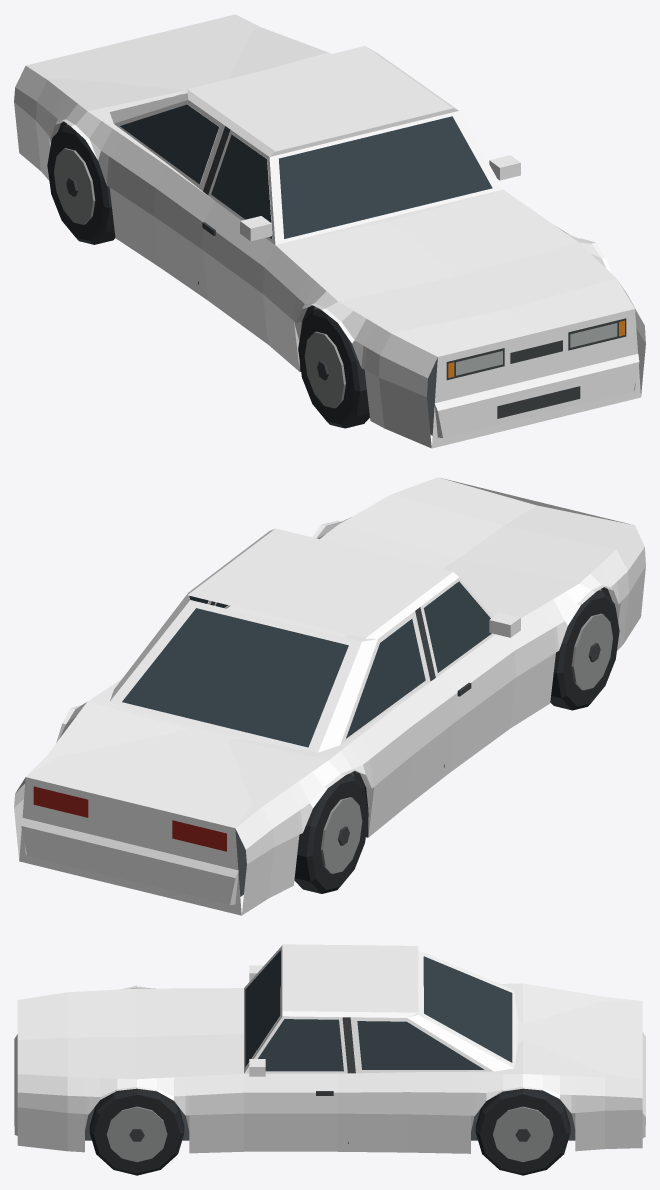
Rendered from bancroft_sidewinder_gts_69.glb.
3 renders of one model, top to bottom at view 1: azimuth 30°, elevation 25°; view 2: azimuth 150°, elevation 25°; view 3: azimuth 270°, elevation 25°, orthographic. The views are drawn at different scales.
Parts seen in each view (by area): view 1: bancroft_sidewinder_gts_69; view 2: bancroft_sidewinder_gts_69; view 3: bancroft_sidewinder_gts_69.
Boxes of the visible parts, bbox=[...] form: bancroft_sidewinder_gts_69: bbox=[14, 14, 645, 448]; bancroft_sidewinder_gts_69: bbox=[14, 477, 645, 915]; bancroft_sidewinder_gts_69: bbox=[14, 944, 645, 1175].
Size of the model in its own units: 1.81 by 1.22 by 4.68.
8 materials, 1 textured.
